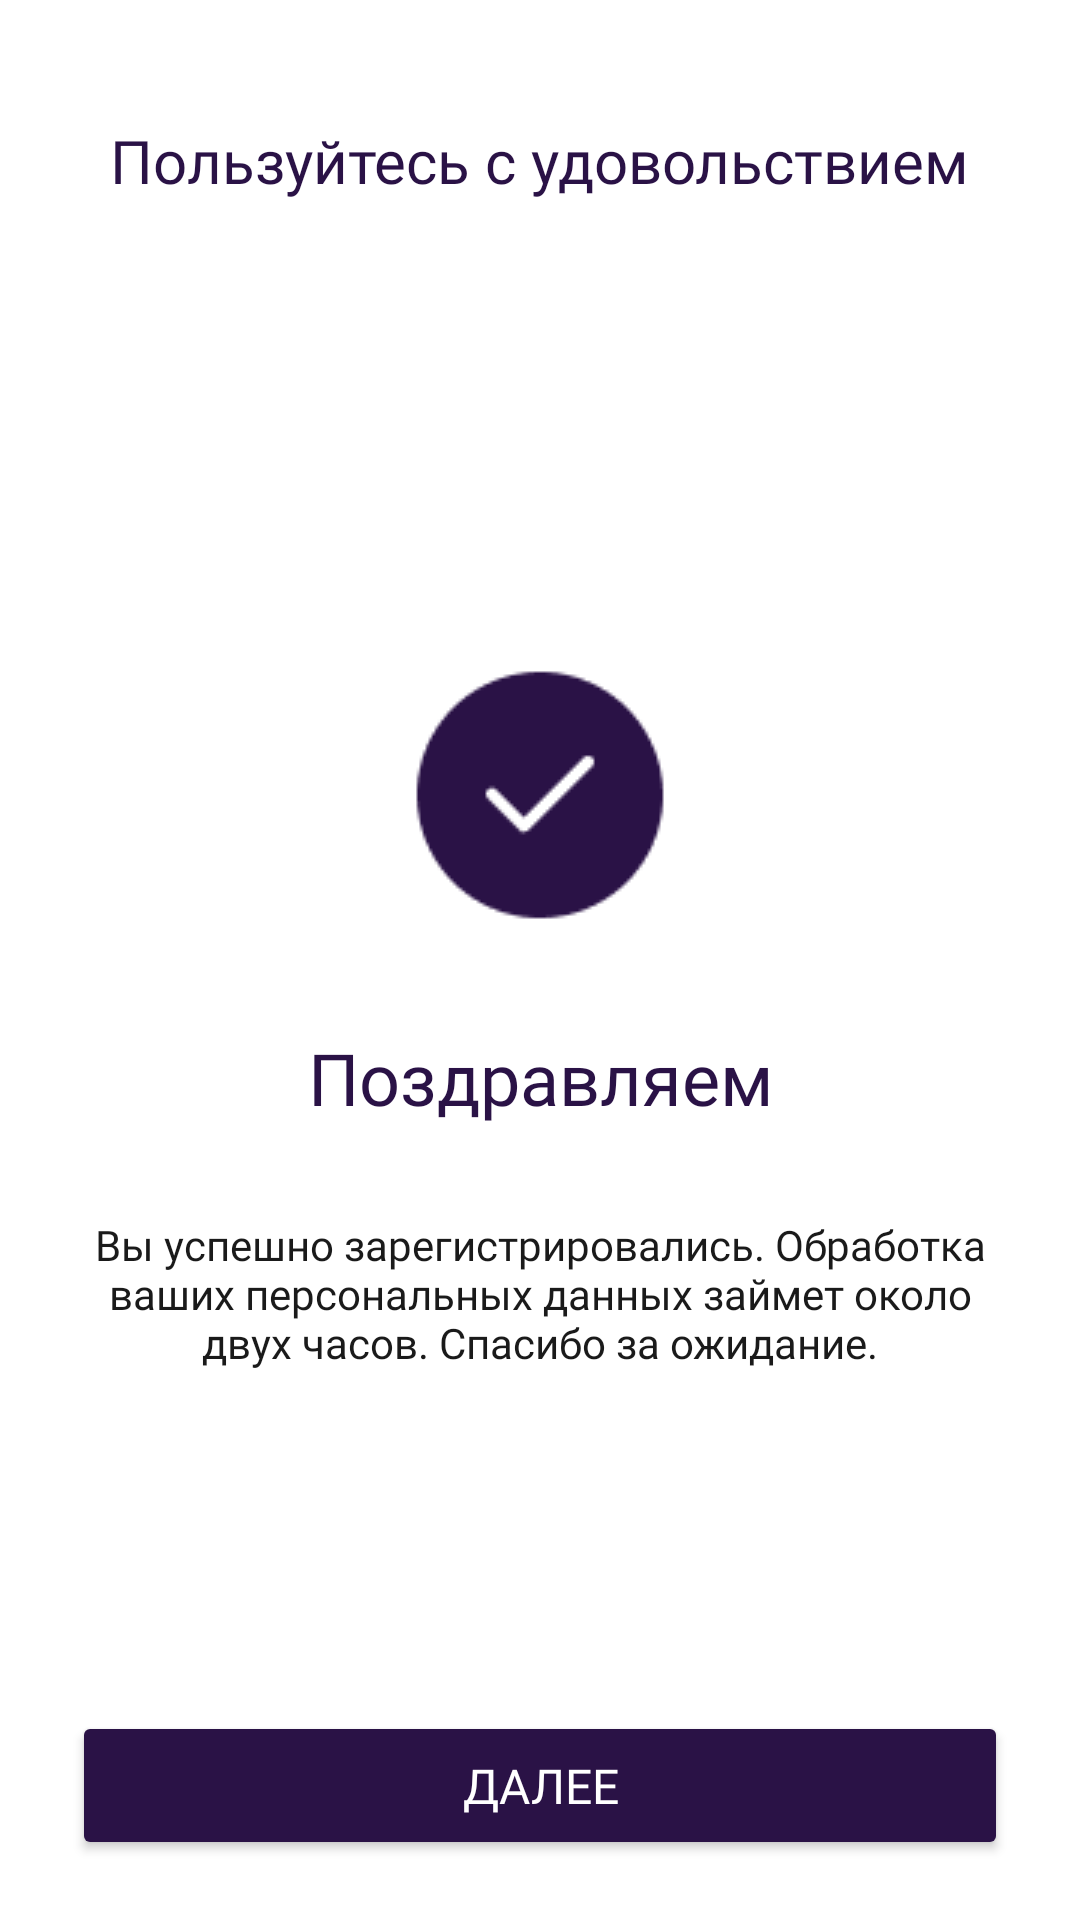

Icons on this 1080×1920 Android screen, each with its box as (x1, y1, x2, y2):
success: (416, 671, 664, 919)
